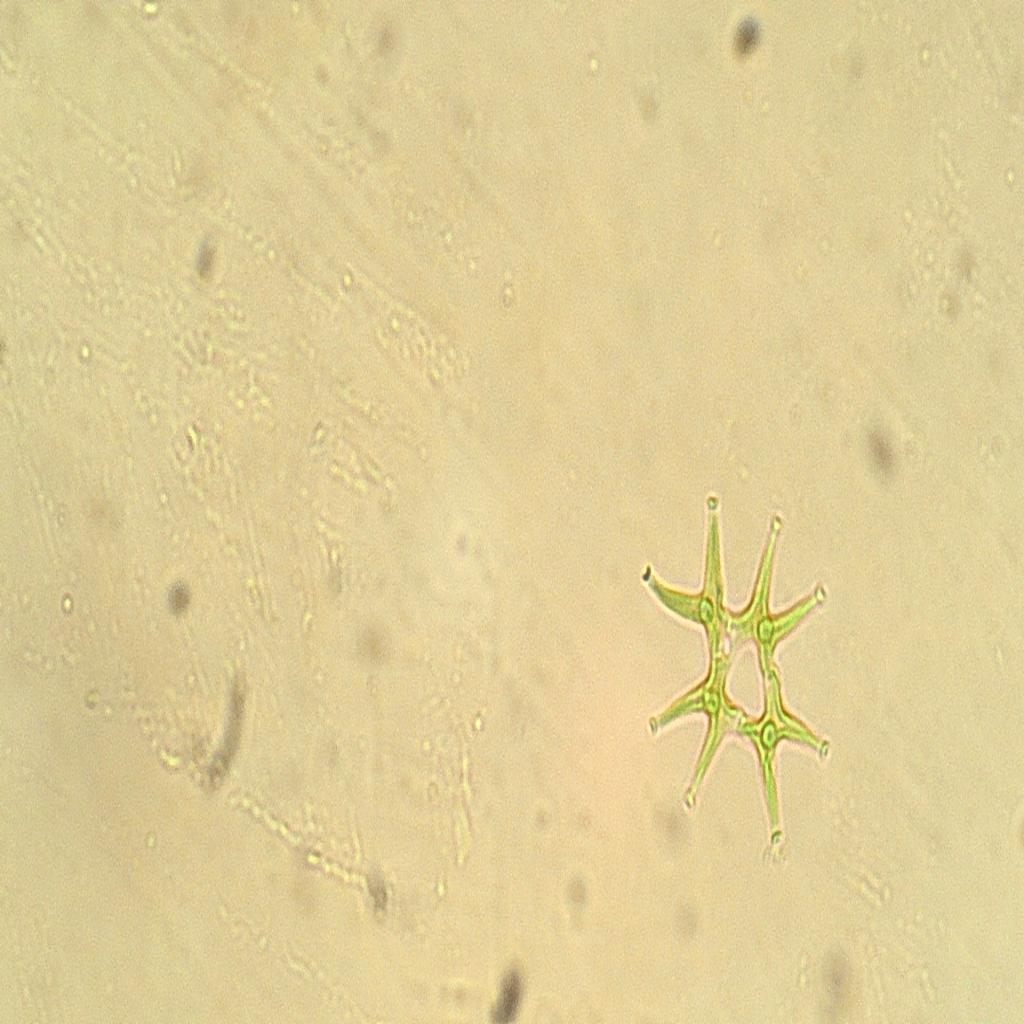Pediastrum_CT: (612, 471, 848, 893)
